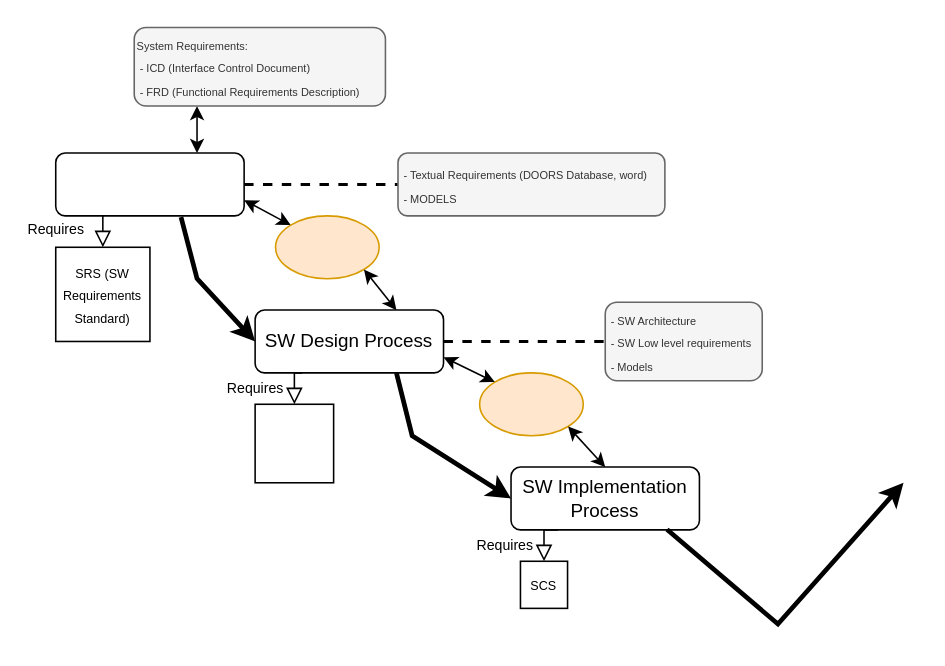
Image size: 945x666. Some labels were removed from this diagram. The shapes that lost their labels are listed below. From the top down, each one's centre as x and y in pixels, then its label:
At point (149, 184): "SW Requirements Process".
At point (326, 246): "Traceability Req - Low Level Req".
At point (530, 403): "Traceability SW low level req - source code".
At point (294, 443): "SDS (SW Design Standard)".
